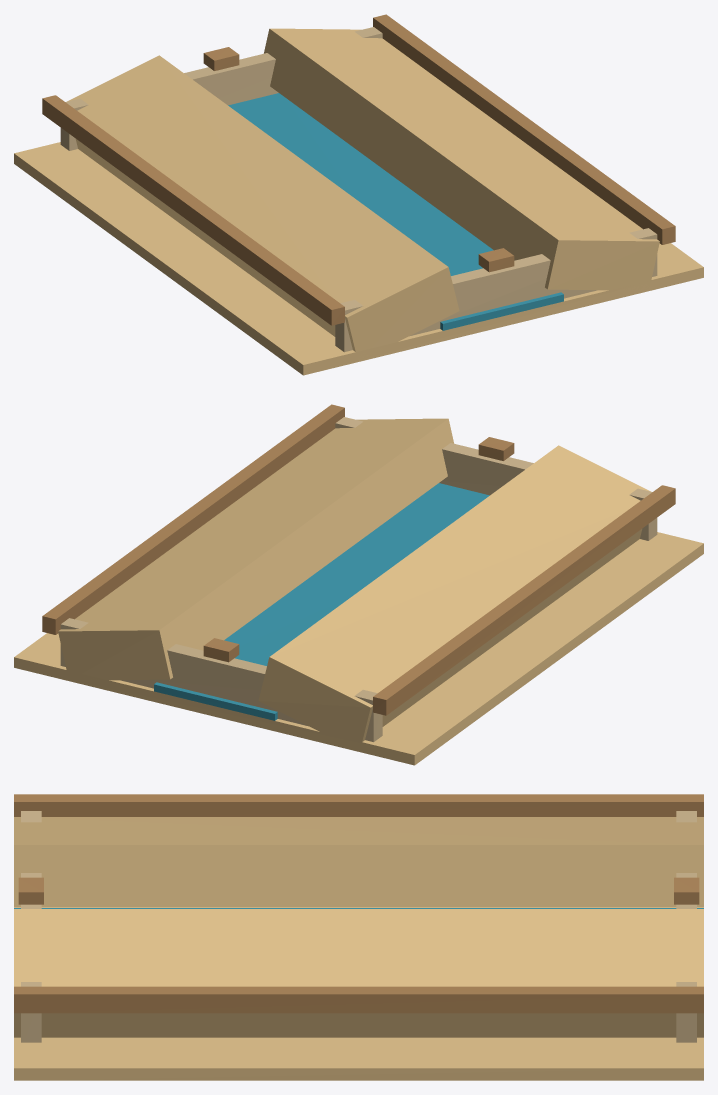
The model's file is Drainage-ditch.glb.
3 views of the same model, one above another, from view 1: azimuth 30°, elevation 25°; view 2: azimuth 150°, elevation 25°; view 3: azimuth 270°, elevation 25° (orthographic). The views are drawn at different scales.
Visible parts, largest first — view 1: drainage-ditch-static-ditch-earth, drainage-ditch-static-ditch-rim, drainage-ditch-static-ditch-water, drainage-ditch-static-ditch-stone, drainage-ditch-static-ditch-marker; view 2: drainage-ditch-static-ditch-earth, drainage-ditch-static-ditch-rim, drainage-ditch-static-ditch-water, drainage-ditch-static-ditch-stone, drainage-ditch-static-ditch-marker; view 3: drainage-ditch-static-ditch-earth, drainage-ditch-static-ditch-rim, drainage-ditch-static-ditch-stone, drainage-ditch-static-ditch-marker, drainage-ditch-static-ditch-water.
Boxes of the visible parts, x1,y1,x2,y2 form: drainage-ditch-static-ditch-earth: (14, 28, 703, 375); drainage-ditch-static-ditch-rim: (42, 14, 675, 325); drainage-ditch-static-ditch-water: (228, 93, 563, 330); drainage-ditch-static-ditch-stone: (60, 27, 657, 352); drainage-ditch-static-ditch-marker: (203, 47, 514, 272); drainage-ditch-static-ditch-earth: (14, 418, 703, 765); drainage-ditch-static-ditch-rim: (42, 404, 675, 715); drainage-ditch-static-ditch-water: (154, 483, 489, 720); drainage-ditch-static-ditch-stone: (60, 417, 657, 742); drainage-ditch-static-ditch-marker: (203, 437, 514, 662); drainage-ditch-static-ditch-earth: (14, 817, 703, 1080); drainage-ditch-static-ditch-rim: (14, 794, 703, 1013); drainage-ditch-static-ditch-stone: (21, 811, 696, 1042); drainage-ditch-static-ditch-marker: (18, 877, 699, 904); drainage-ditch-static-ditch-water: (14, 908, 703, 908).
Size of the model in its own units: 4.8 by 0.8357 by 6.
